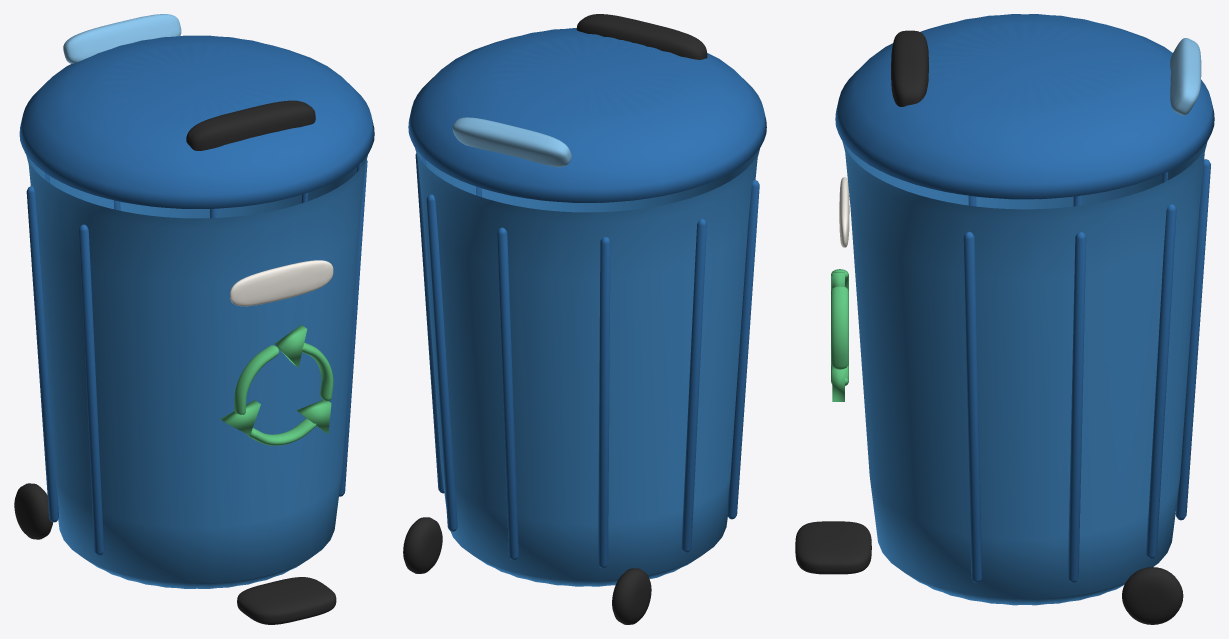
Rendered from caneca.glb.
3 renders of one model, left to right at view 1: azimuth 30°, elevation 25°; view 2: azimuth 150°, elevation 25°; view 3: azimuth 270°, elevation 25°, orthographic. The views are drawn at different scales.
Visible parts, largest first — view 1: caneca, tapa.010, boca vaivén, pedal, costilla 5, costilla 4, etiqueta caneca, tapa vaivén, rueda.008, costilla 9, flecha reciclaje 0, flecha reciclaje 1 (+4 smaller); view 2: caneca, tapa.010, costilla 3, costilla 2, costilla 4, costilla 1, tapa vaivén, costilla 5, boca vaivén, rueda.008, rueda.009, costilla 0; view 3: caneca, tapa.010, costilla 0, costilla 9, costilla 1, pedal, costilla 2, rueda.009, boca vaivén, tapa vaivén, flecha reciclaje 2, etiqueta caneca.
Boxes of the visible parts, bbox=[...] form: caneca: bbox=[26, 154, 367, 588]; tapa.010: bbox=[19, 35, 374, 208]; boca vaivén: bbox=[186, 100, 315, 150]; pedal: bbox=[237, 577, 336, 624]; costilla 5: bbox=[79, 224, 104, 555]; costilla 4: bbox=[26, 186, 58, 522]; etiqueta caneca: bbox=[230, 260, 333, 306]; tapa vaivén: bbox=[63, 14, 181, 63]; rueda.008: bbox=[14, 483, 52, 539]; costilla 9: bbox=[339, 160, 367, 496]; flecha reciclaje 0: bbox=[234, 345, 279, 414]; flecha reciclaje 1: bbox=[247, 418, 316, 445]; caneca: bbox=[415, 148, 759, 586]; tapa.010: bbox=[408, 28, 766, 202]; costilla 3: bbox=[598, 237, 610, 568]; costilla 2: bbox=[497, 227, 518, 560]; costilla 4: bbox=[681, 218, 706, 552]; costilla 1: bbox=[426, 194, 457, 531]; tapa vaivén: bbox=[452, 117, 571, 167]; costilla 5: bbox=[727, 180, 759, 519]; boca vaivén: bbox=[576, 14, 707, 59]; rueda.008: bbox=[612, 568, 651, 624]; rueda.009: bbox=[403, 517, 442, 573]; costilla 0: bbox=[415, 153, 444, 493]; caneca: bbox=[842, 141, 1207, 605]; tapa.010: bbox=[835, 14, 1214, 199]; costilla 0: bbox=[1067, 231, 1086, 582]; costilla 9: bbox=[963, 231, 982, 582]; costilla 1: bbox=[1146, 204, 1176, 558]; pedal: bbox=[795, 521, 871, 574]; costilla 2: bbox=[1175, 159, 1210, 520]; rueda.009: bbox=[1122, 567, 1183, 624]; boca vaivén: bbox=[891, 30, 928, 106]; tapa vaivén: bbox=[1170, 38, 1201, 115]; flecha reciclaje 2: bbox=[831, 286, 848, 369]; etiqueta caneca: bbox=[839, 177, 849, 247].
Bounding box in the file's own units: 0.5944 × 0.8931 × 0.6571.
